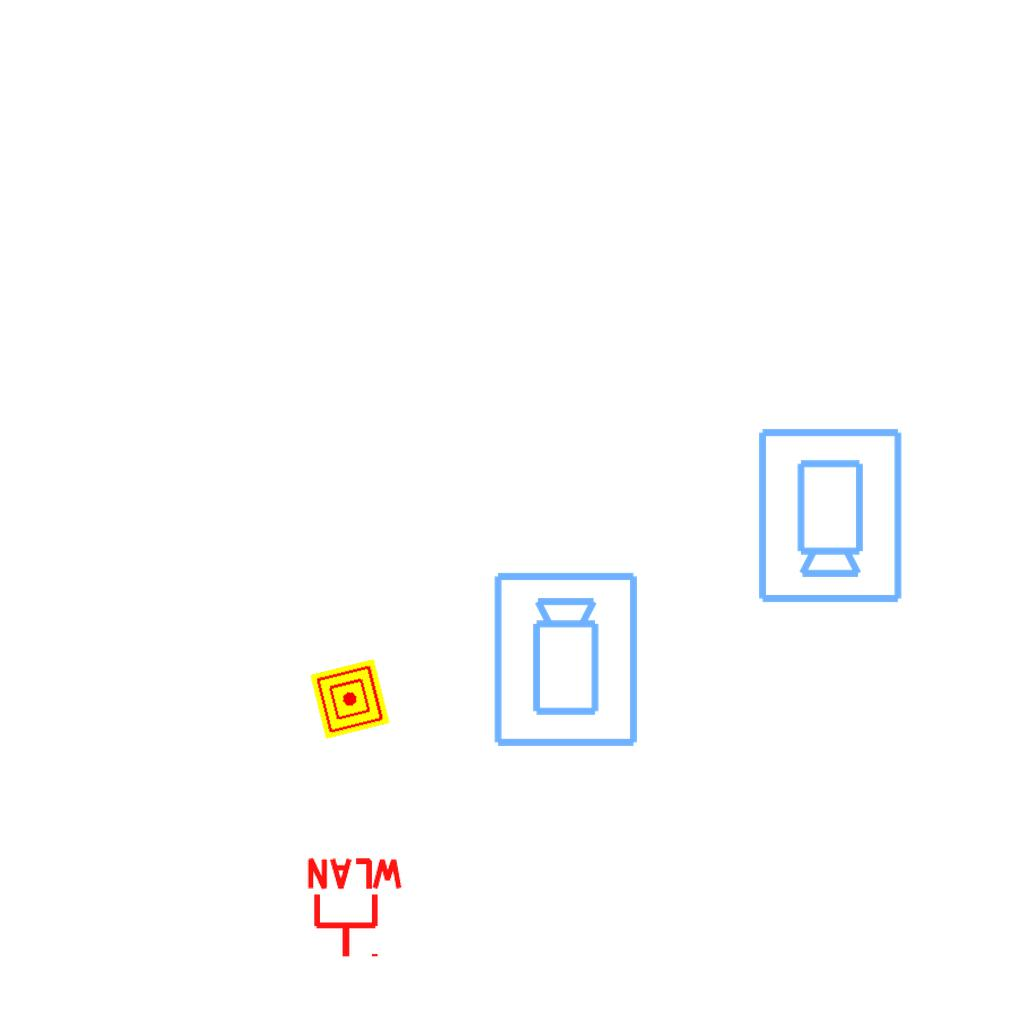KFO_Kamera_mit_Festobjektiv: (490, 569, 644, 751), (752, 424, 906, 606)
NAM-Nichtautomatischer_Melder: (309, 658, 391, 740)
WLAN: (303, 856, 407, 961)
